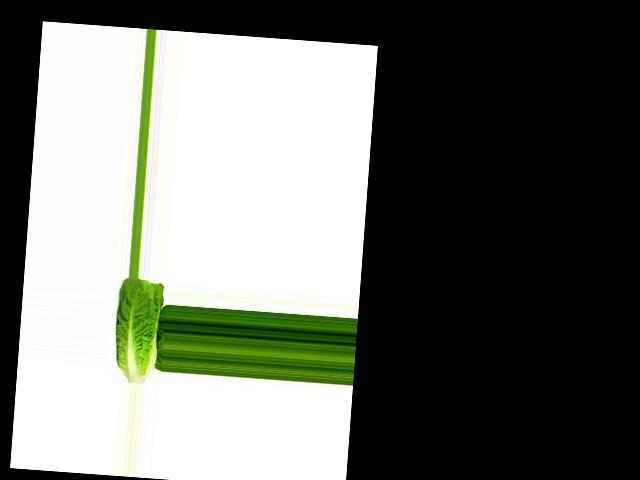lettuce: (105, 275, 162, 384)
